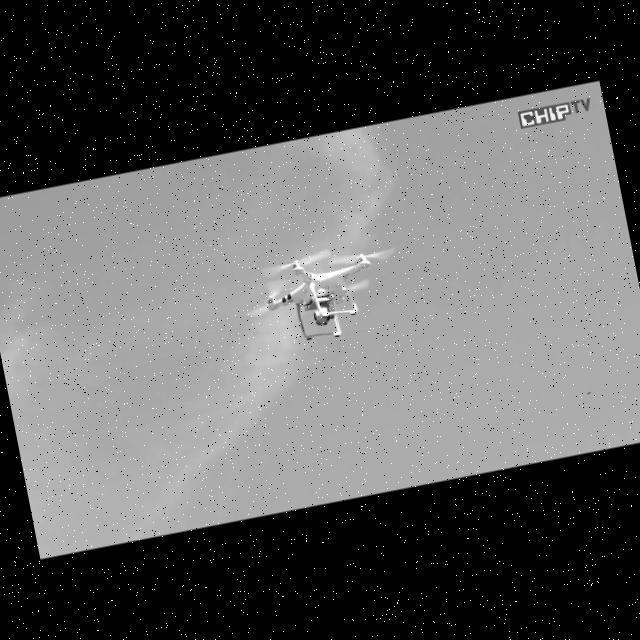Drons: (230, 226, 419, 362)
